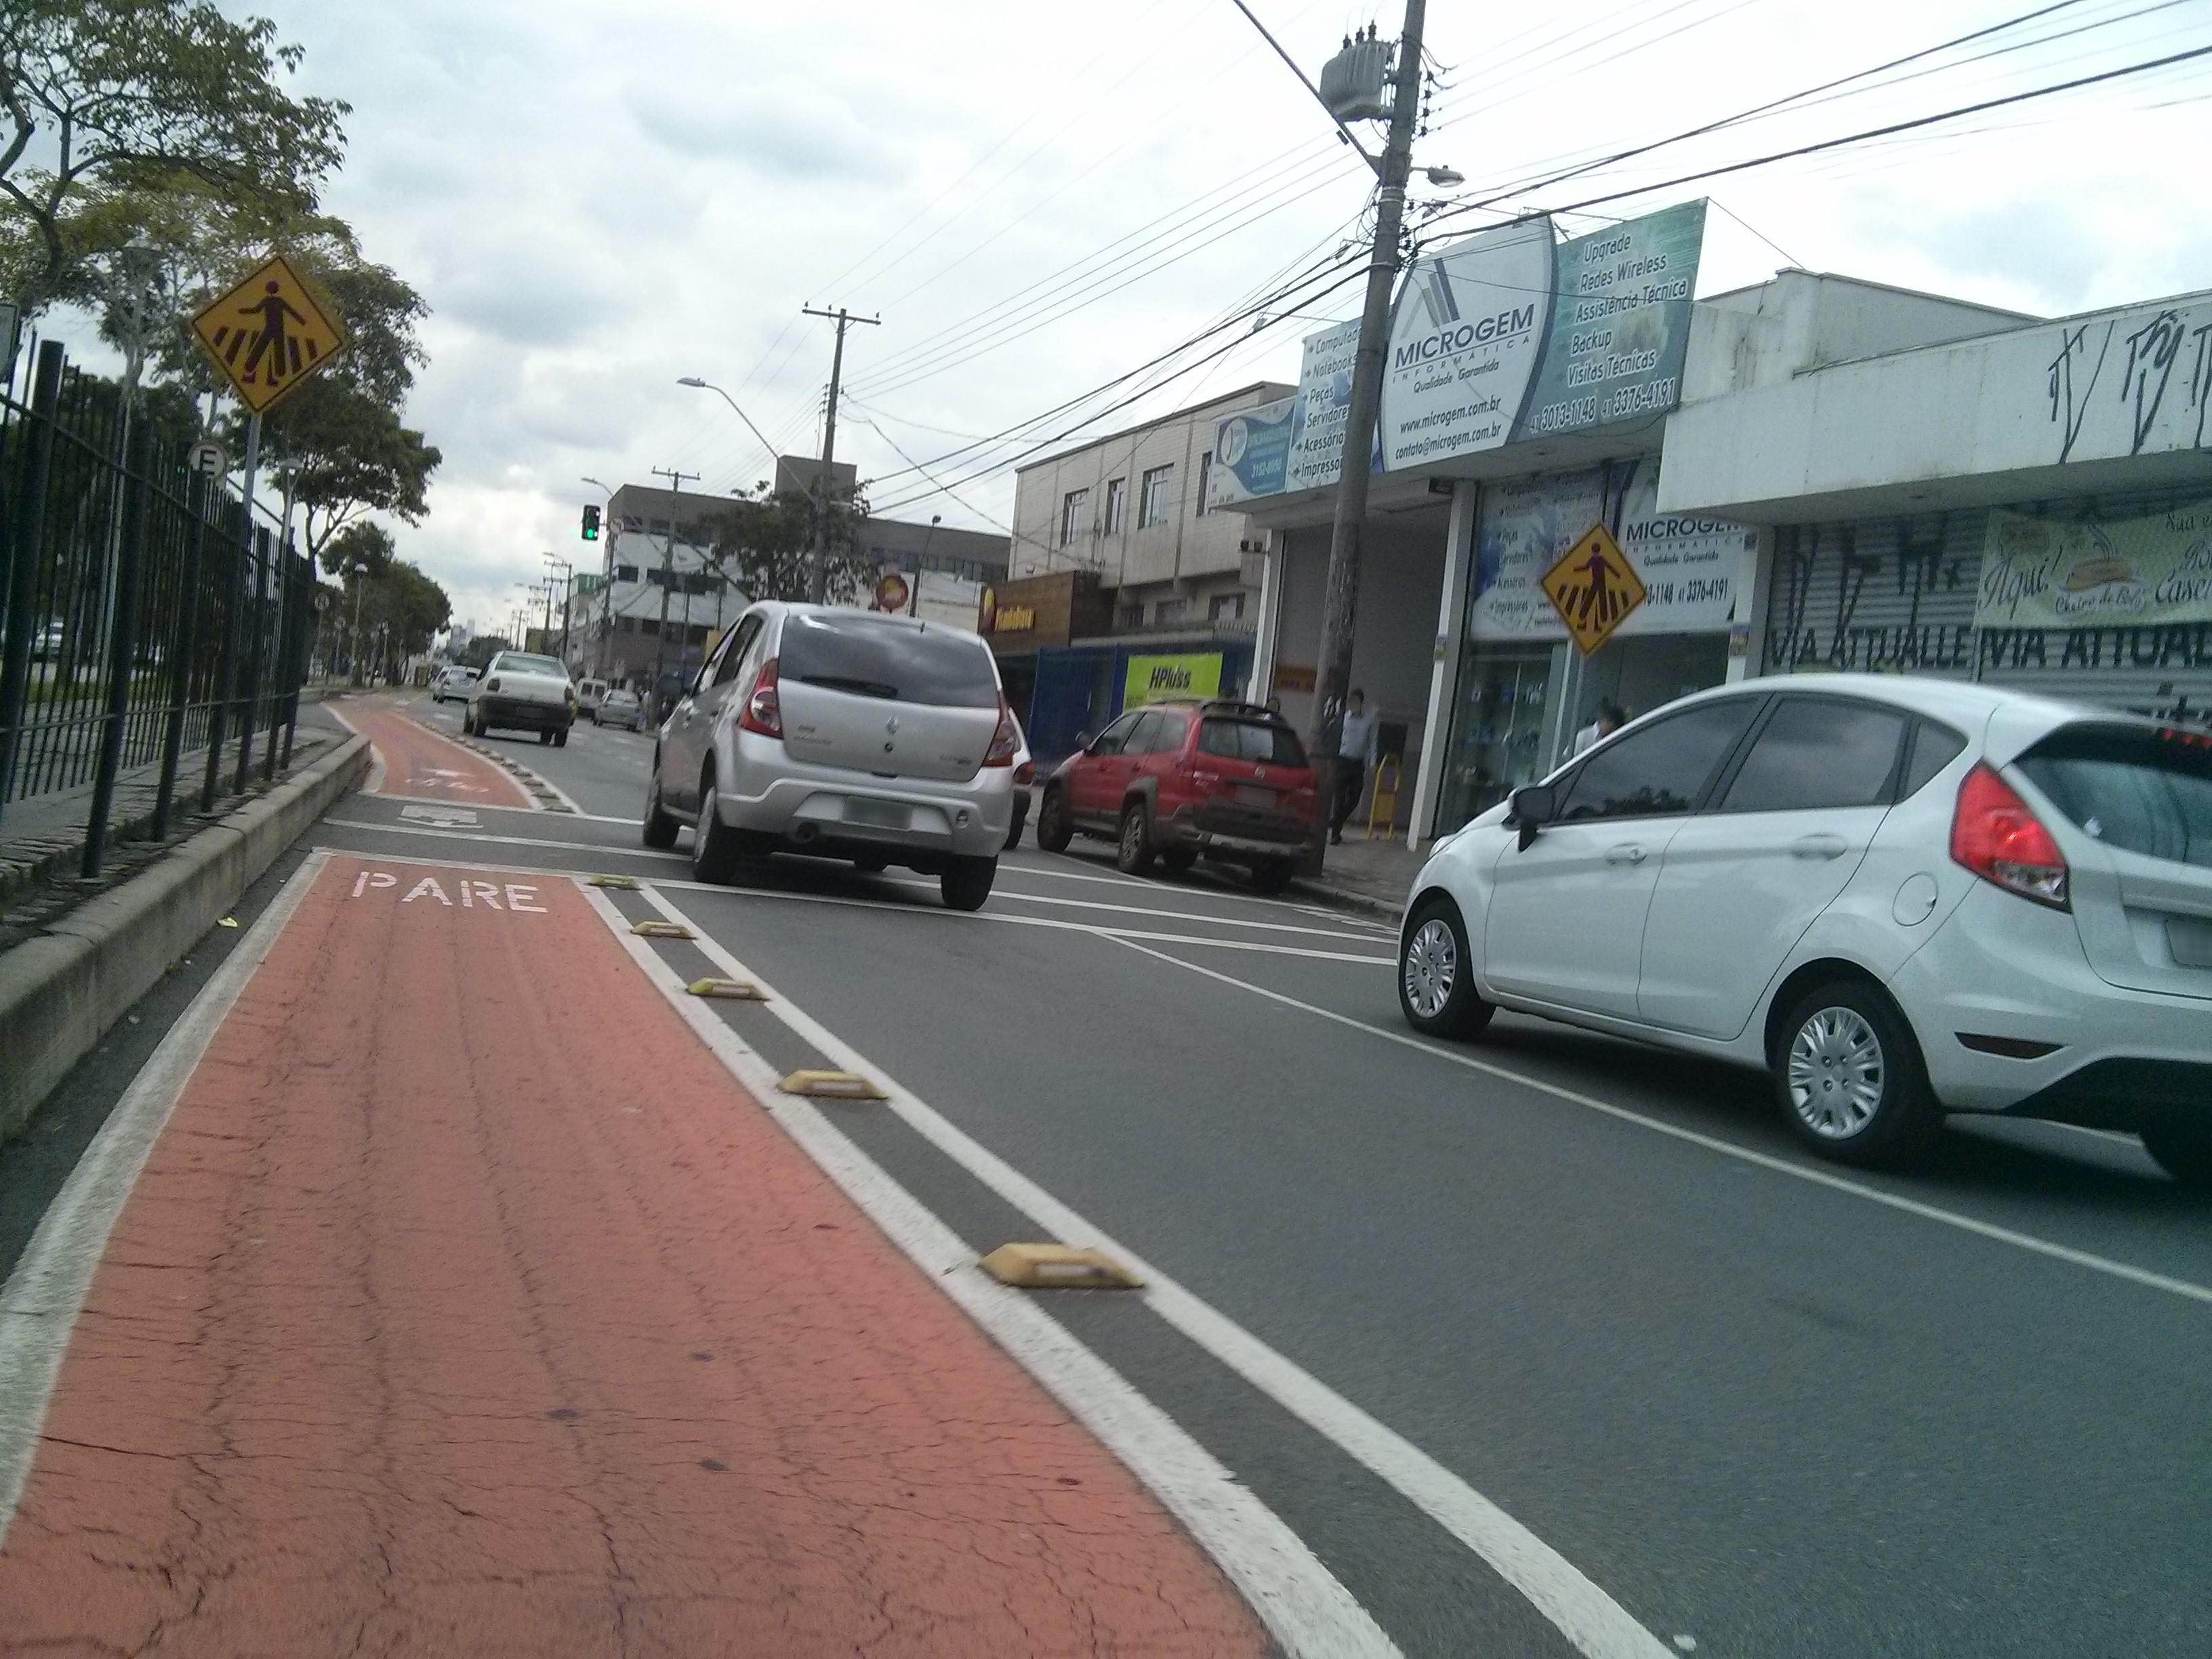vinyl banner: (1972, 484, 2212, 641), (1104, 633, 1219, 718)
